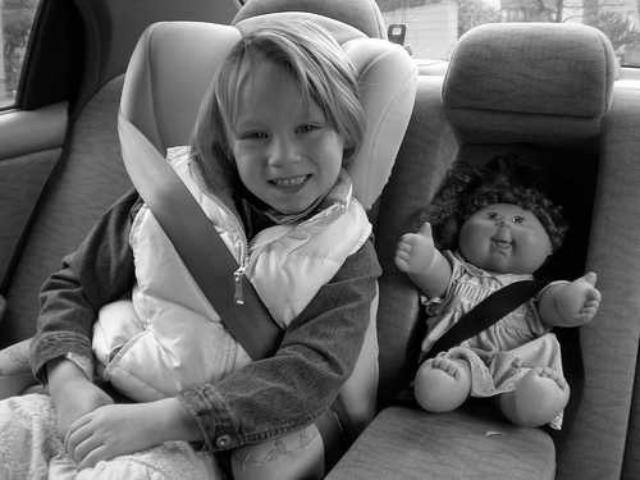SafeDriving: (287, 108, 329, 144), (238, 120, 276, 146)
Seatbelt: (114, 112, 286, 364), (428, 278, 540, 360)
